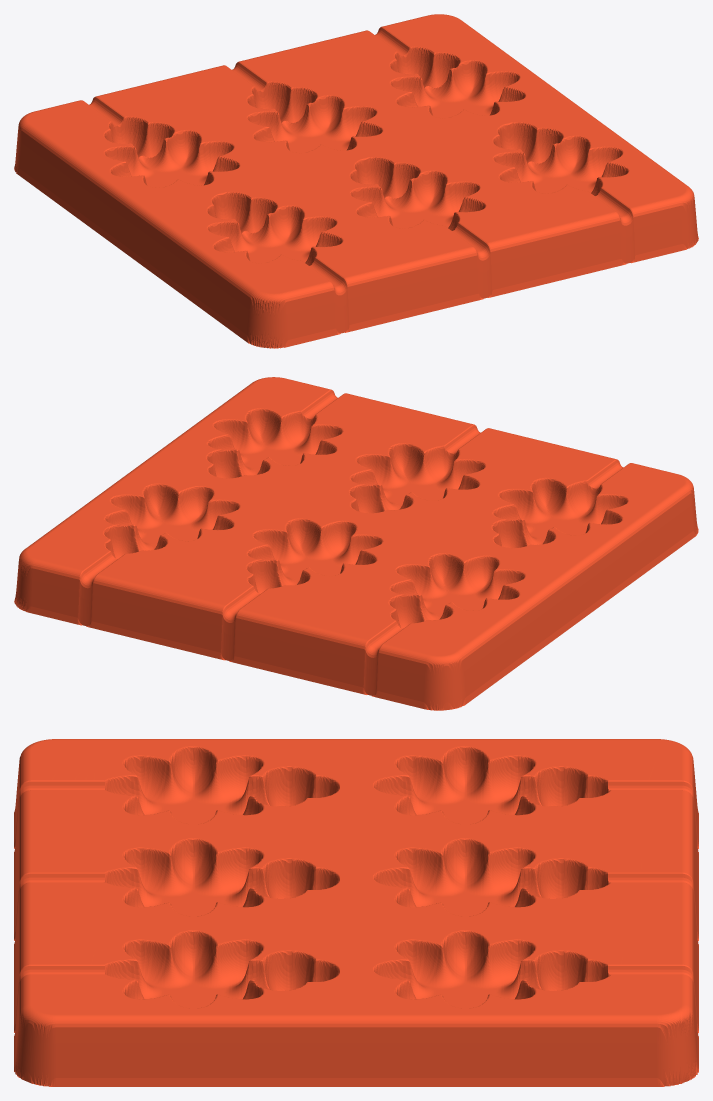
File: mold.glb
3 renders of one model, top to bottom at view 1: azimuth 30°, elevation 25°; view 2: azimuth 150°, elevation 25°; view 3: azimuth 270°, elevation 25°, orthographic. The views are drawn at different scales.
Visible parts, largest first — view 1: geometry_0; view 2: geometry_0; view 3: geometry_0.
Part boxes in pixels (bbox=[...]): geometry_0: bbox=[14, 14, 698, 348]; geometry_0: bbox=[14, 377, 698, 710]; geometry_0: bbox=[14, 739, 698, 1086].
Size of the model in its own units: 0.1474 by 0.0155 by 0.1477.
